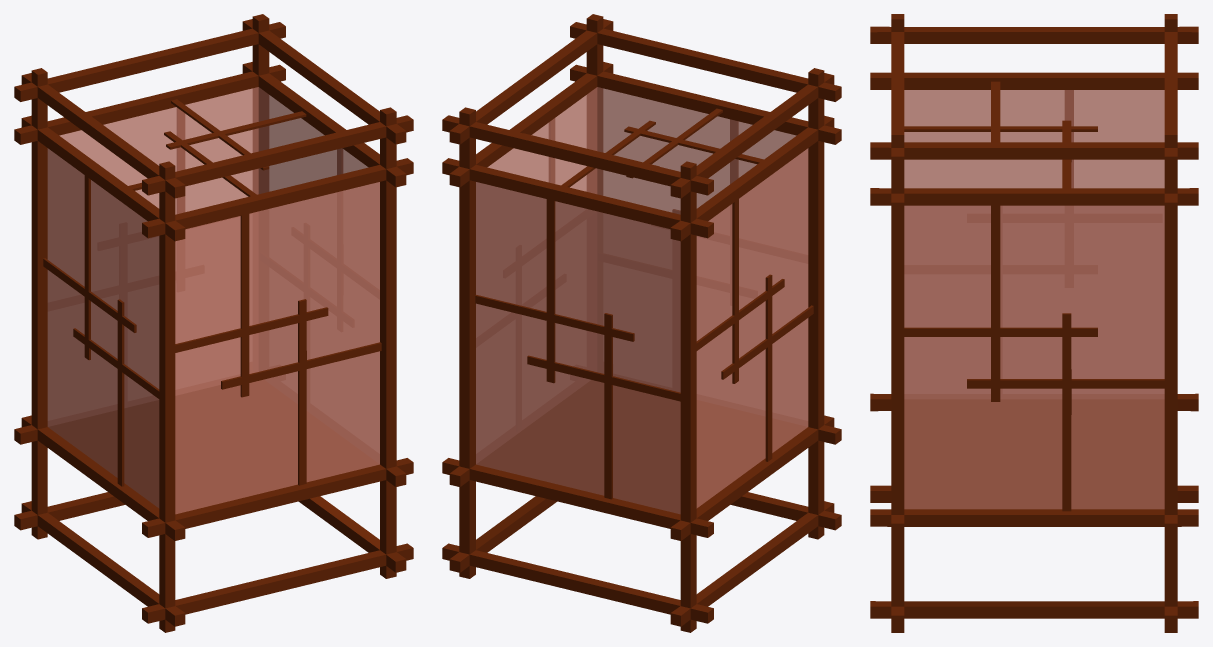
The model's file is White Lamp - floor.fbx.
The picture shows the model from 3 angles, left to right: view 1: azimuth 30°, elevation 25°; view 2: azimuth 150°, elevation 25°; view 3: azimuth 270°, elevation 25°; orthographic projection. The views are drawn at different scales.
Parts seen in each view (by area): view 1: pCube26; view 2: pCube26; view 3: pCube26.
Part boxes in pixels (<box>): pCube26: <box>14,14,413,632</box>; pCube26: <box>442,14,841,632</box>; pCube26: <box>870,14,1198,632</box>.
Bounding box in the file's own units: 6.49 × 10.85 × 6.49.
